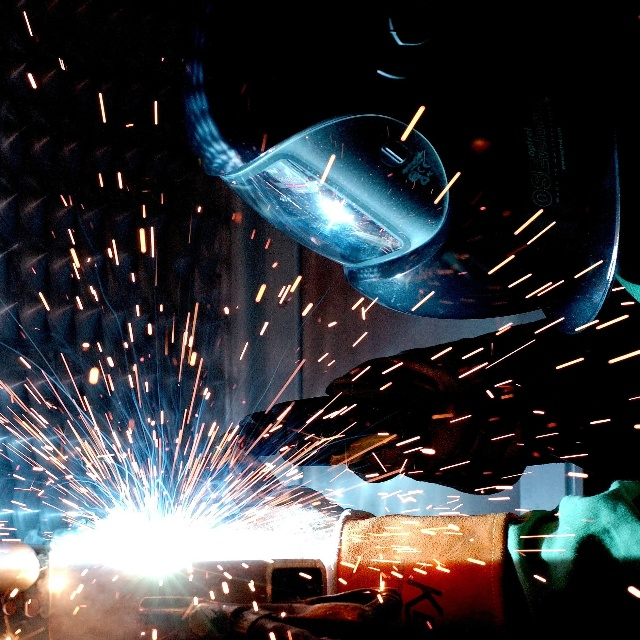Guantes: (225, 443, 511, 631)
